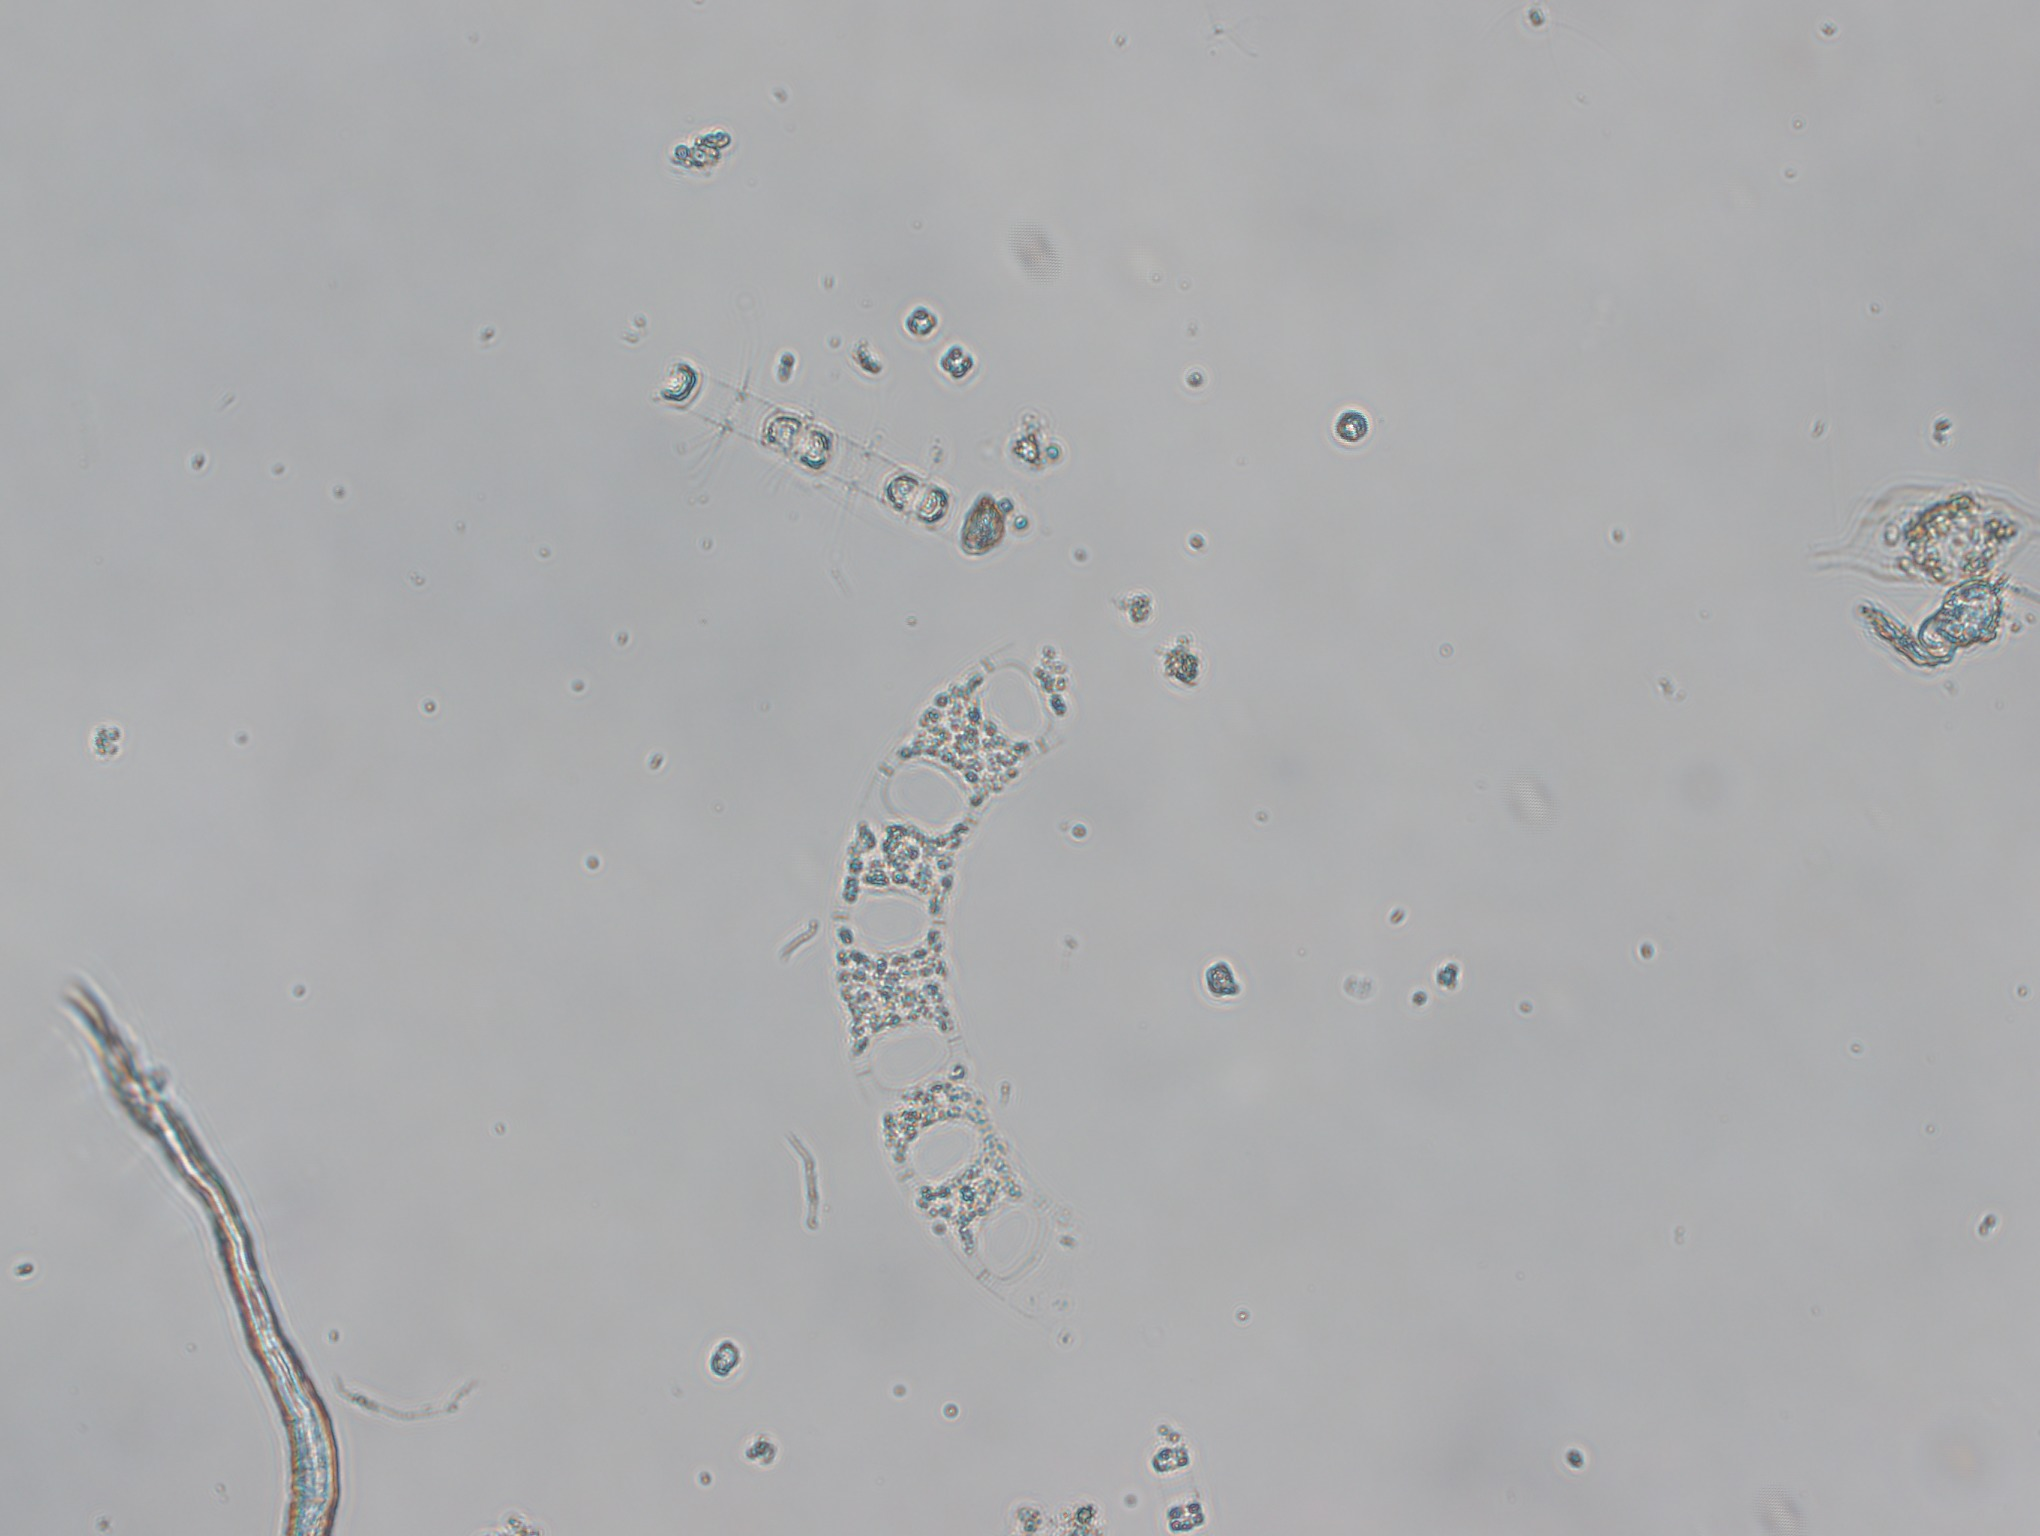chaetoceros: (647, 345, 963, 574)
eucampia: (831, 637, 1087, 1321)
